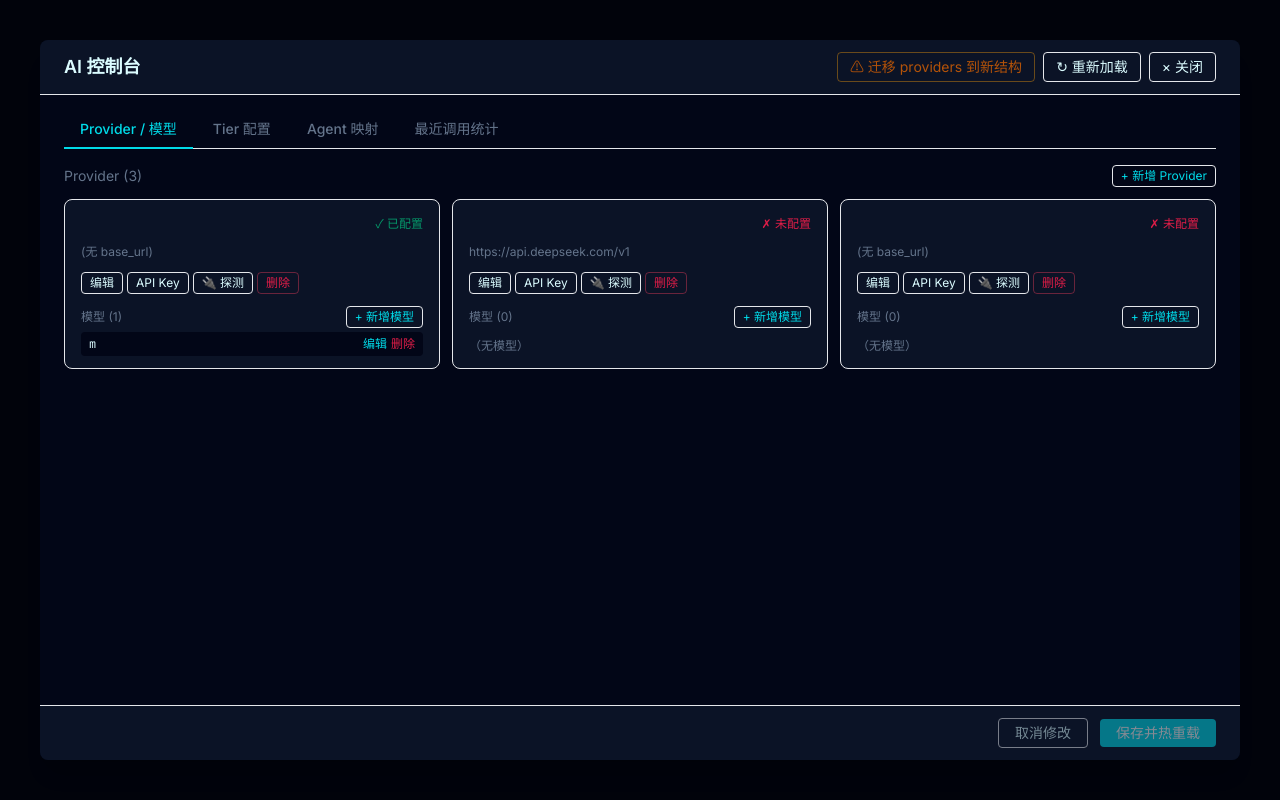
Test: AIConsoleModal › probe button shows error result with error_code when probe fails
Click the button with test id "provider-anthropic-probe": x=223, y=283 [193, 272, 253, 294]
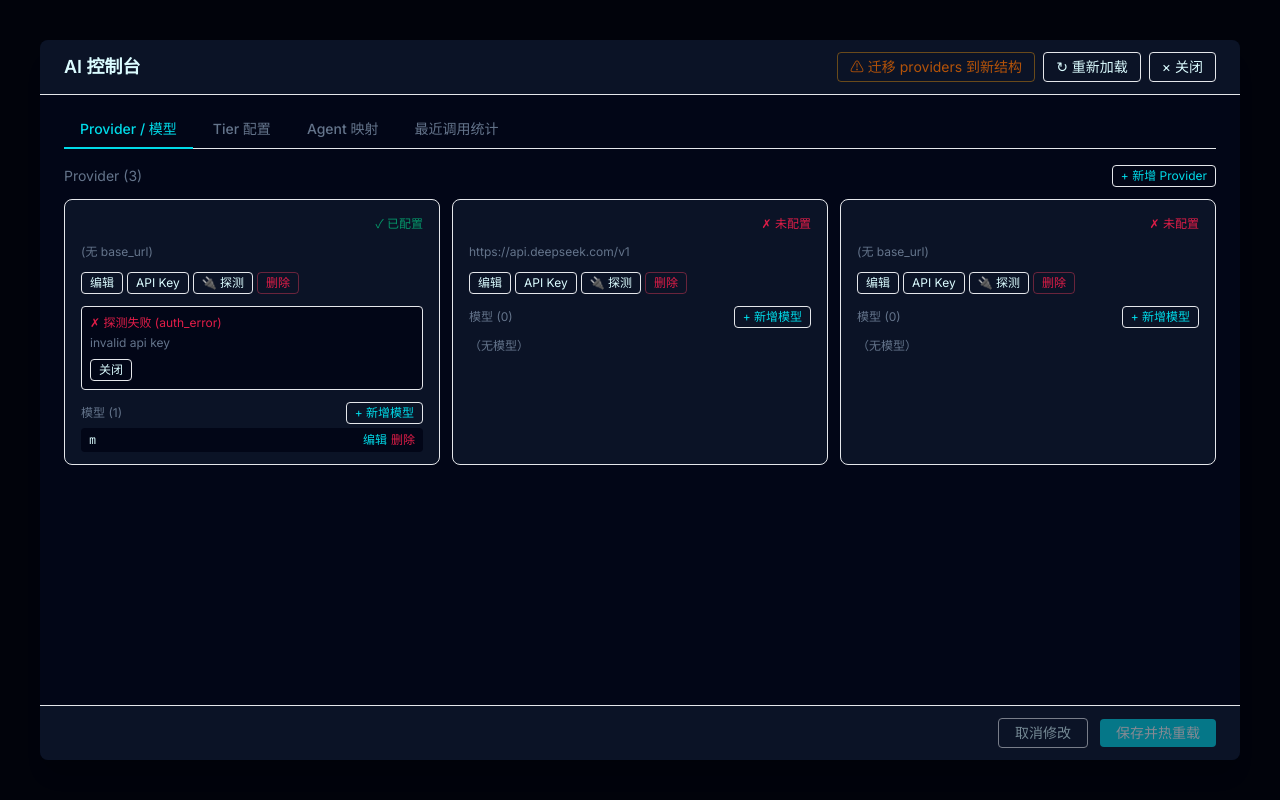
Expected: the text with test id "probe-error-header" shows "auth_error", [159, 315, 217, 330]
